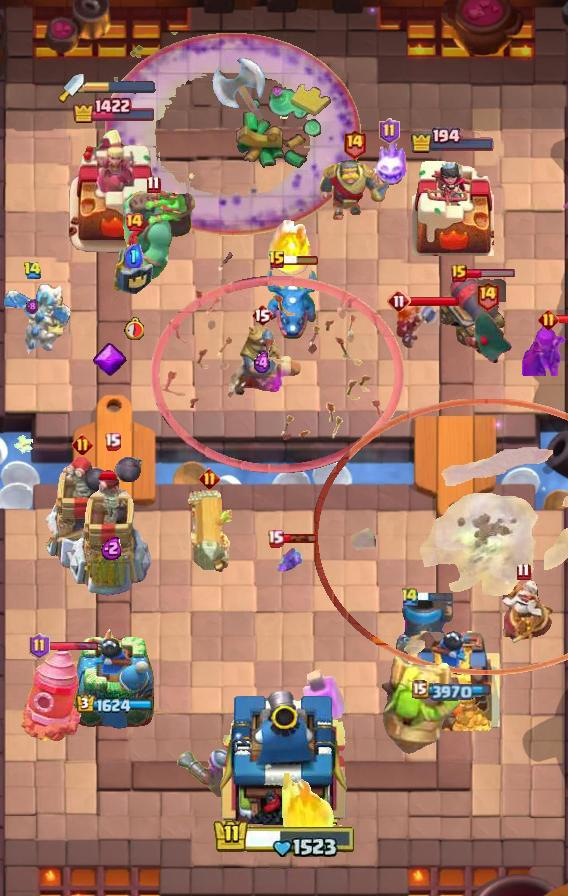bar: (64, 124, 164, 256)
barbarian: (273, 542, 303, 574)
battle-healer: (186, 490, 232, 574)
bomb-tower: (176, 747, 238, 801)
clock: (212, 815, 356, 857)
electro-spirit: (101, 536, 123, 560), (252, 352, 273, 374), (125, 244, 143, 268), (26, 299, 38, 314)
elixir: (124, 316, 144, 339)
elixir-collector: (490, 576, 556, 646)
emote: (408, 295, 460, 307), (464, 269, 516, 280), (47, 640, 99, 651), (418, 590, 455, 603), (284, 254, 320, 266), (282, 532, 318, 543), (556, 314, 568, 324)
evolution-symbol: (516, 318, 568, 376)
firecracker: (318, 160, 389, 220)
graveyard: (263, 265, 321, 341)
hog-rider: (394, 300, 440, 350)
king-tower: (214, 684, 354, 826)
king-tower-bar: (84, 80, 156, 94)
knight-evolution: (303, 668, 347, 725)
lava-hound: (109, 187, 197, 281)
magic-archer: (21, 648, 81, 742)
mini-pekka: (0, 279, 72, 359)
mirror: (365, 142, 413, 190)
musketeer: (394, 595, 454, 659)
princess: (109, 233, 159, 297)
queen-tower: (405, 621, 501, 731), (72, 627, 156, 731), (412, 156, 494, 256)
ram-rider: (221, 316, 303, 402)
rocket: (105, 32, 361, 236)
royal-ghost: (314, 399, 568, 675)
royal-giant: (210, 55, 268, 127)
royal-giant-evolution: (438, 273, 506, 347)
selected: (410, 126, 496, 154), (71, 97, 156, 124), (412, 679, 494, 700), (75, 694, 152, 714)
skeleton-barrel: (152, 252, 405, 476)
skeleton-king-skill: (92, 342, 128, 378)
tesla: (461, 310, 513, 366)
text: (341, 128, 366, 159), (476, 280, 501, 311), (387, 289, 411, 313), (380, 118, 401, 144), (30, 633, 51, 659), (251, 303, 273, 327), (538, 309, 559, 331), (199, 467, 220, 489), (71, 434, 92, 455), (400, 586, 420, 607), (124, 212, 144, 232), (22, 260, 42, 279), (268, 250, 286, 270), (103, 433, 121, 452), (267, 528, 284, 547), (451, 264, 467, 282), (147, 175, 162, 193), (517, 563, 531, 581)
valkyrie: (277, 773, 337, 843), (266, 212, 316, 278)
x-bow: (380, 654, 464, 756)
zappy: (68, 456, 156, 600), (36, 457, 127, 573)
